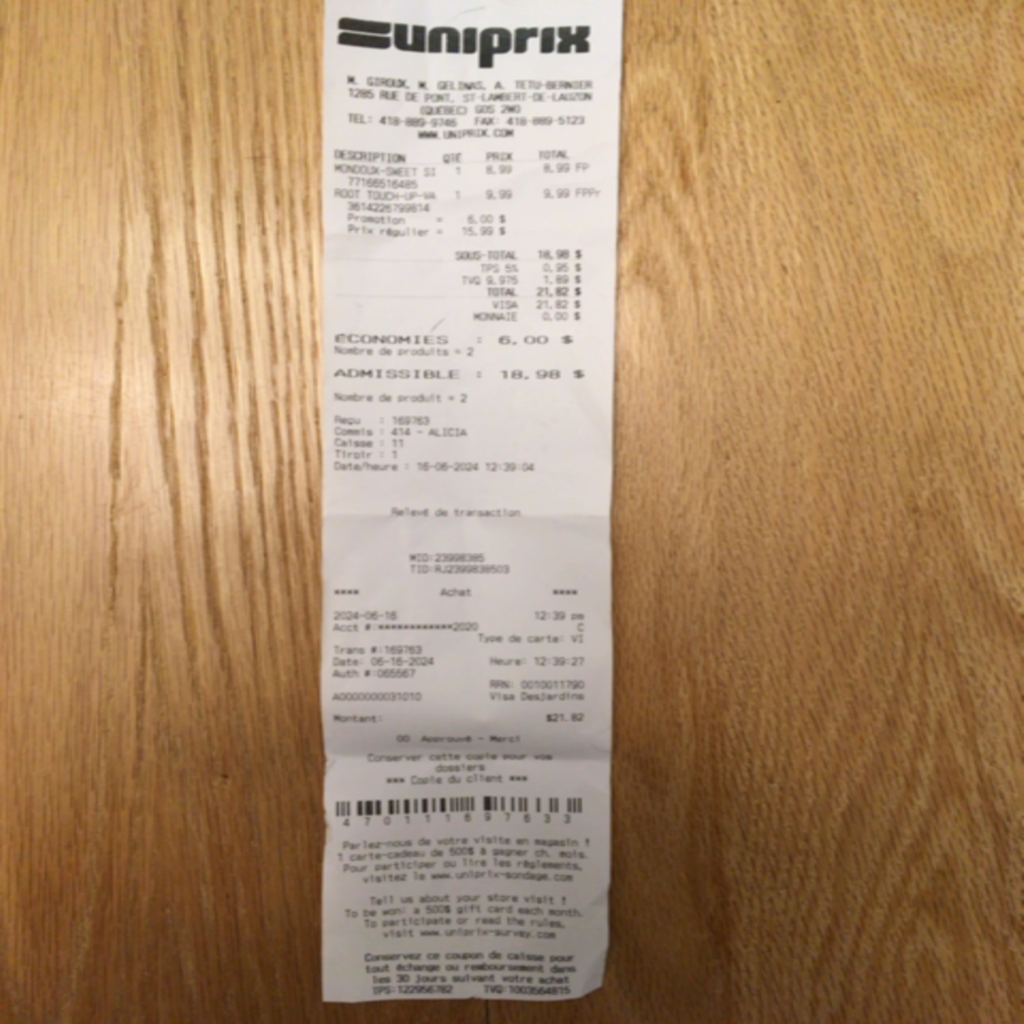recipt: (319, 2, 621, 1001)
